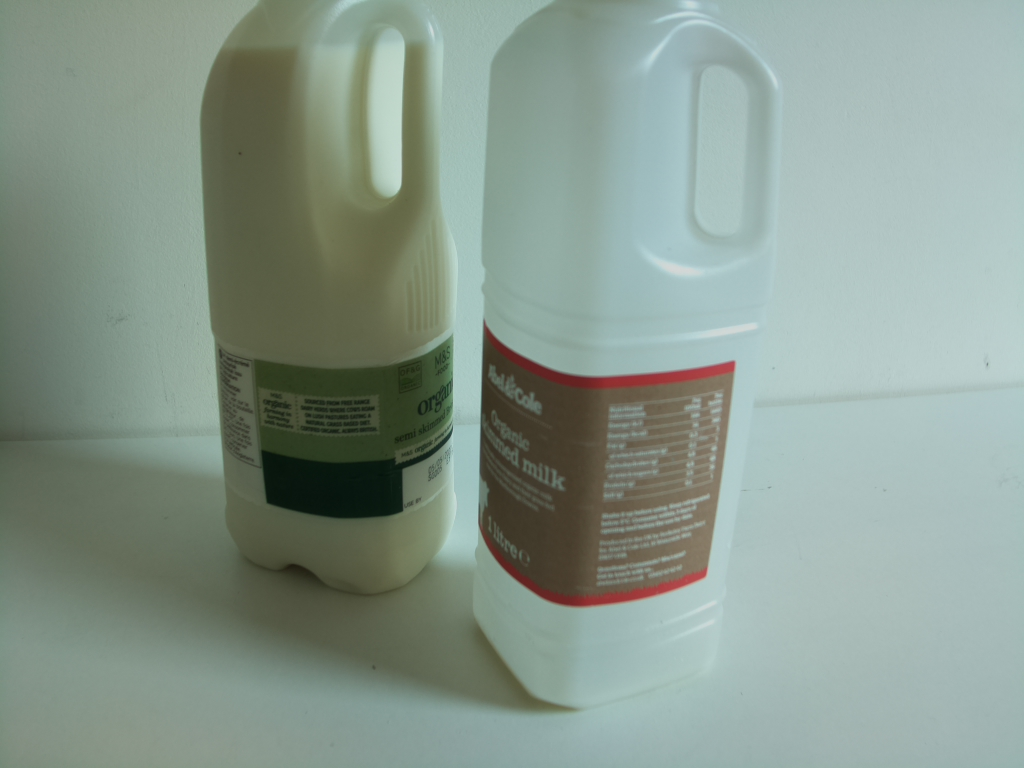milk: (473, 1, 784, 719)
